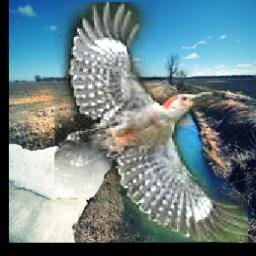Woodpecker: (54, 3, 248, 243)
